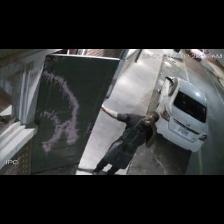person: (93, 105, 159, 174)
